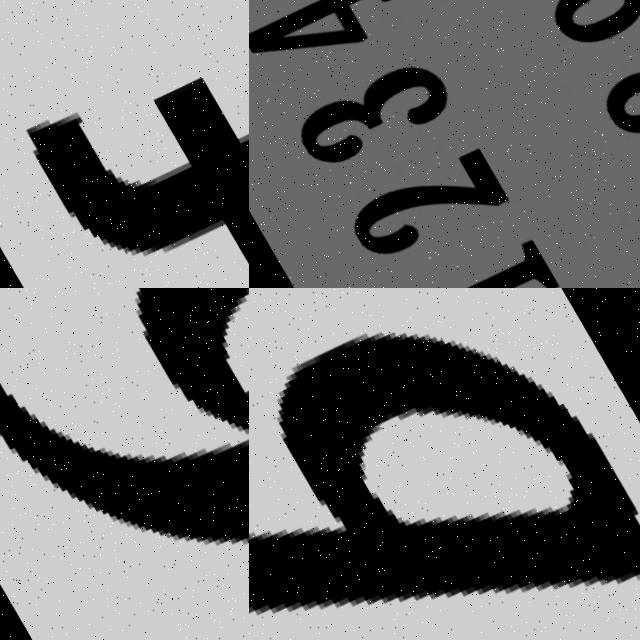1: (367, 201, 585, 288)
2: (275, 111, 527, 288)
3: (262, 30, 462, 189)
4: (249, 0, 417, 102)
6: (0, 288, 249, 640)
8: (566, 0, 640, 159)
9: (512, 0, 640, 70)
B: (249, 327, 640, 608)
F: (0, 0, 249, 288)
